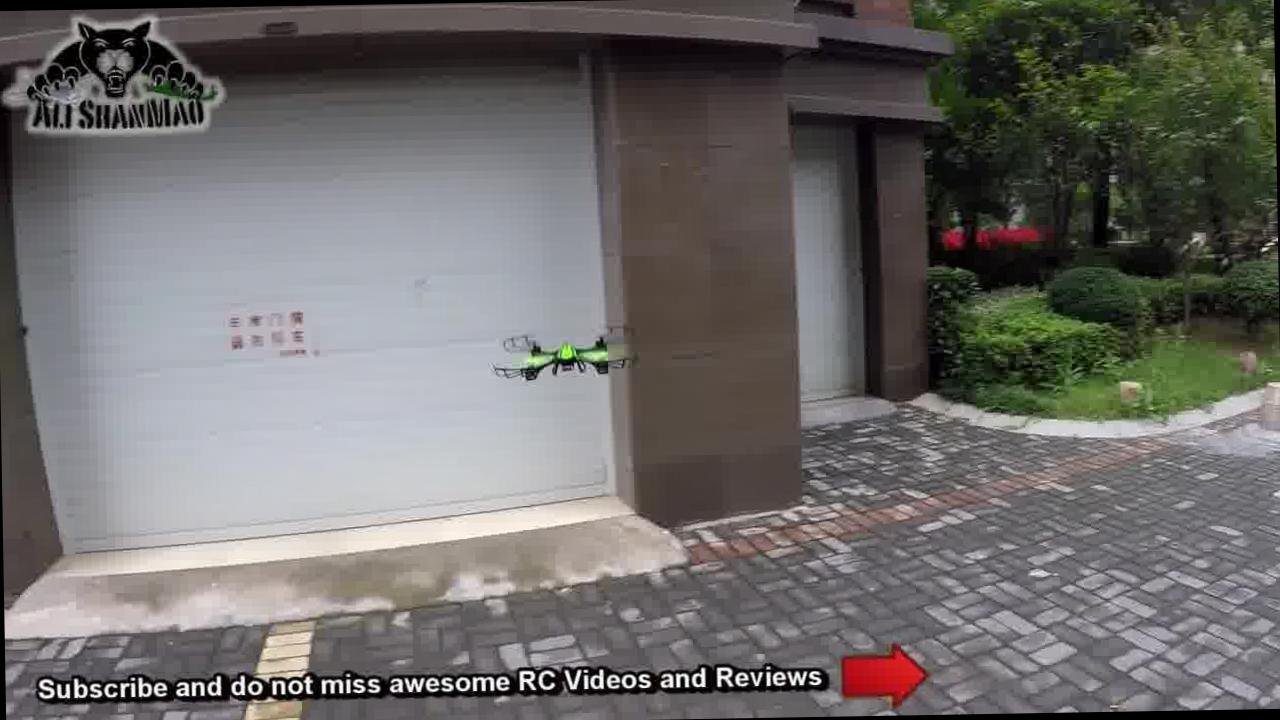drone: (482, 326, 628, 392)
